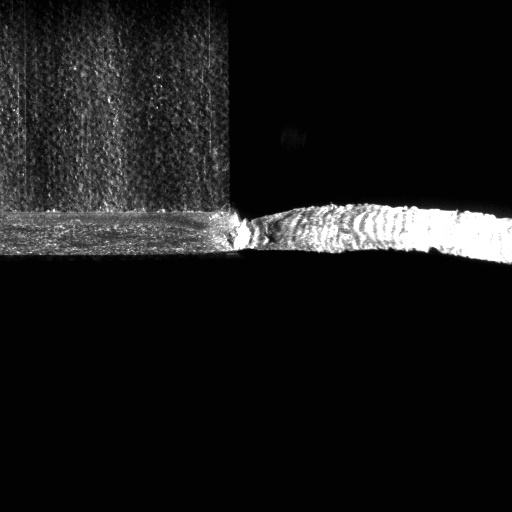changdai: (220, 202, 511, 265)
